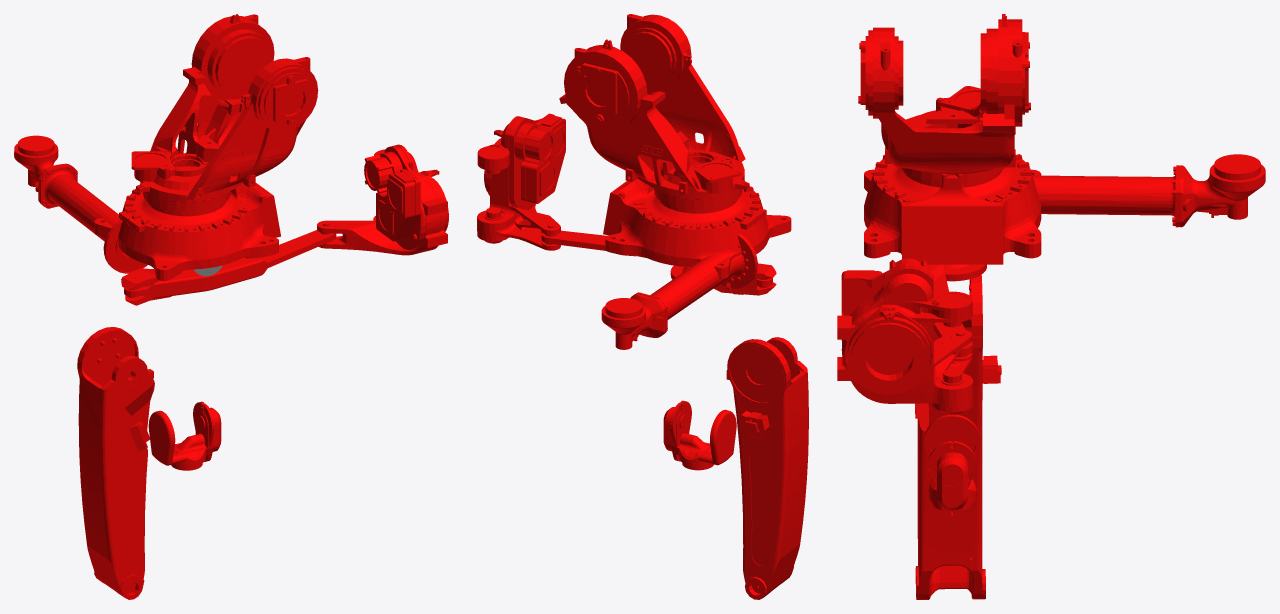
File: COMAU.glb
The picture shows the model from 3 angles, left to right: view 1: azimuth 30°, elevation 25°; view 2: azimuth 150°, elevation 25°; view 3: azimuth 270°, elevation 25°; orthographic projection. The views are drawn at different scales.
Visible parts, largest first — view 1: link_1, link_2, link_3, base_link, link_4, link_5; view 2: link_1, link_2, base_link, link_3, link_4, link_5; view 3: link_3, link_1, base_link, link_2, link_4, link_5.
Boxes of the visible parts, x1,y1,x2,y2 form: link_1: [131, 14, 318, 202]; link_2: [77, 327, 154, 599]; link_3: [121, 144, 448, 305]; base_link: [94, 166, 280, 280]; link_4: [14, 135, 147, 273]; link_5: [148, 401, 221, 470]; link_1: [559, 14, 750, 199]; link_2: [726, 337, 808, 599]; base_link: [603, 163, 791, 278]; link_3: [477, 113, 776, 295]; link_4: [601, 234, 757, 349]; link_5: [663, 400, 736, 470]; link_3: [837, 258, 986, 414]; link_1: [858, 14, 1030, 174]; base_link: [864, 154, 1041, 264]; link_2: [915, 274, 1001, 599]; link_4: [1032, 154, 1265, 227]; link_5: [924, 414, 980, 517].
Size of the model in its own units: 1.88 by 2.91 by 1.69.
